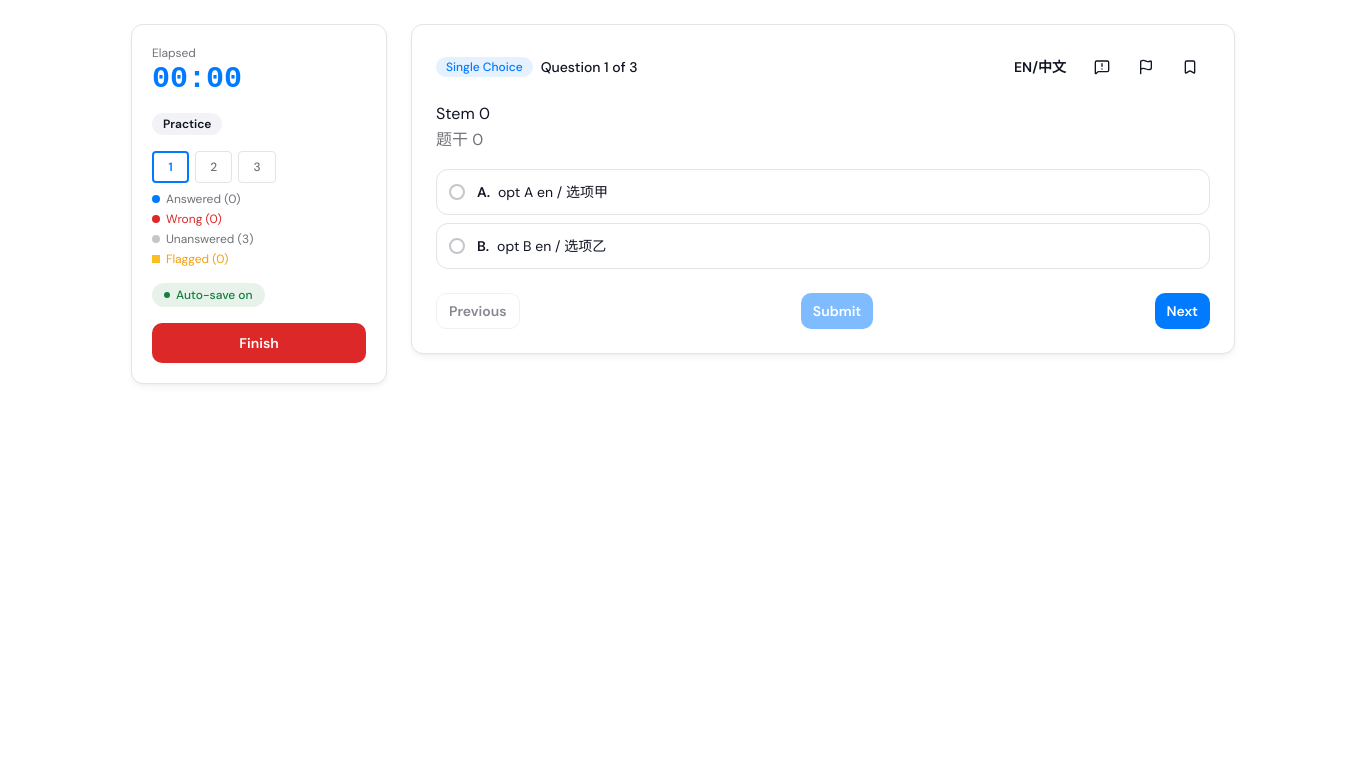
Test: <PaperPlayer> paper layout (FR-PAPER-05, v1.6) › 纠错 submits question feedback via the dialog
The width and height of the screenshot is (1366, 768).
Expected: the text "Question 1 of 3" is shown, left=541, top=57, right=638, bottom=77
Click the button named "Report error".
click(1102, 67)  # box left=1082, top=49, right=1122, bottom=85
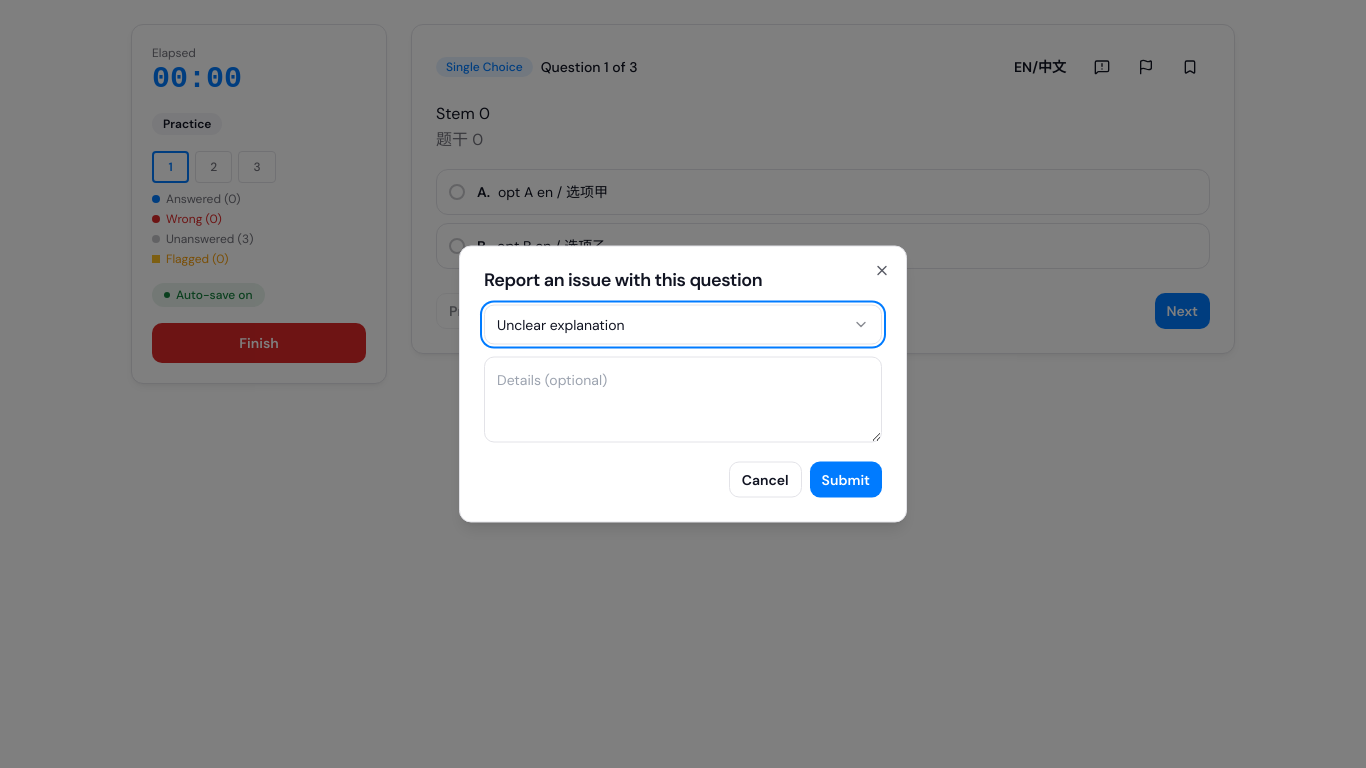
Type "typo in option B" into the text box labelled "Details (optional)".
click(683, 400); type("typo in option B")  # box left=484, top=356, right=882, bottom=442
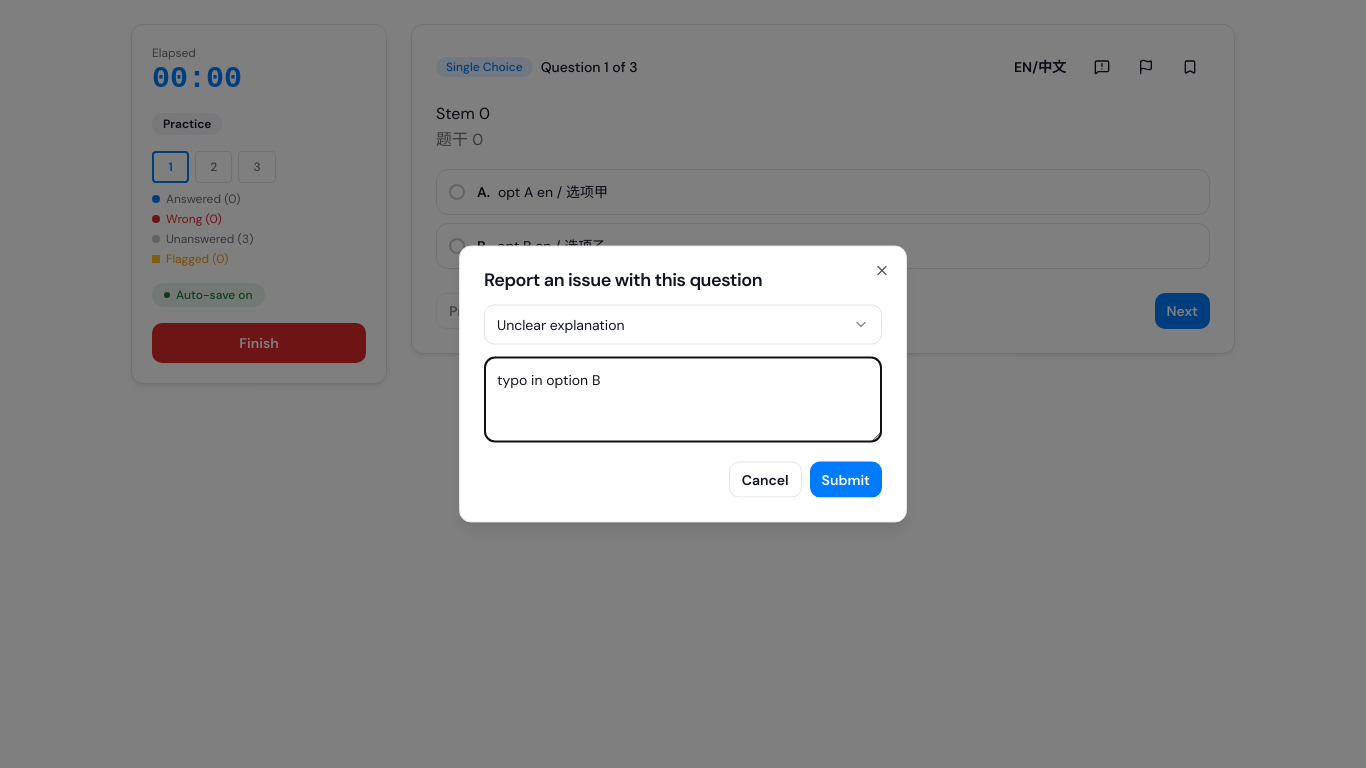
Click the button "Submit".
click(846, 480)  # box left=810, top=462, right=882, bottom=498
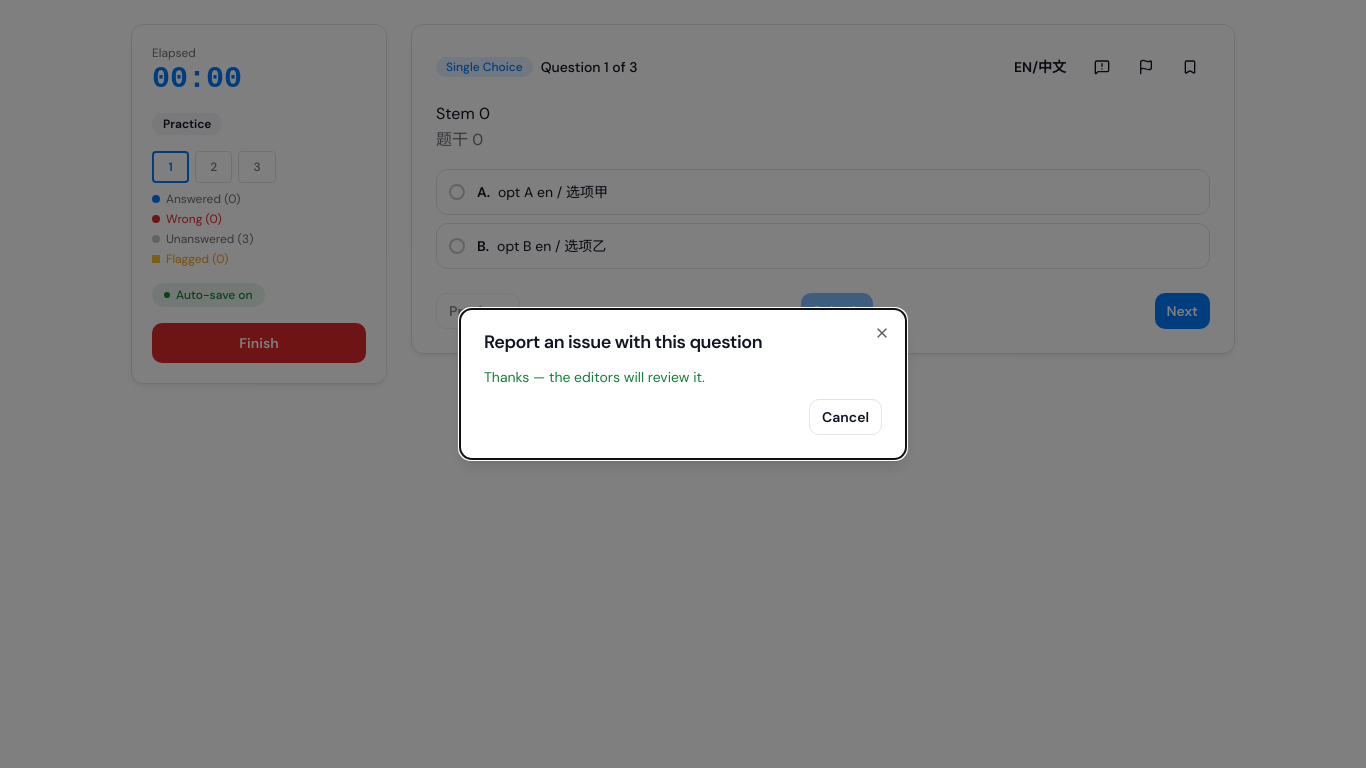
Result: the text "Thanks — the editors will review it." is shown at left=484, top=368, right=705, bottom=386
